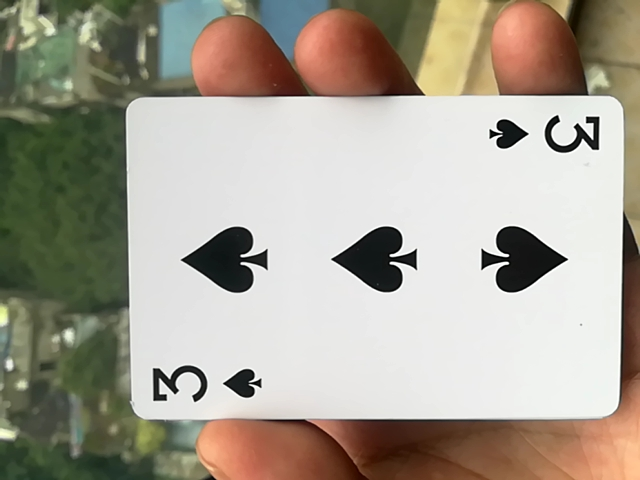ht 3: (111, 106, 622, 445)
